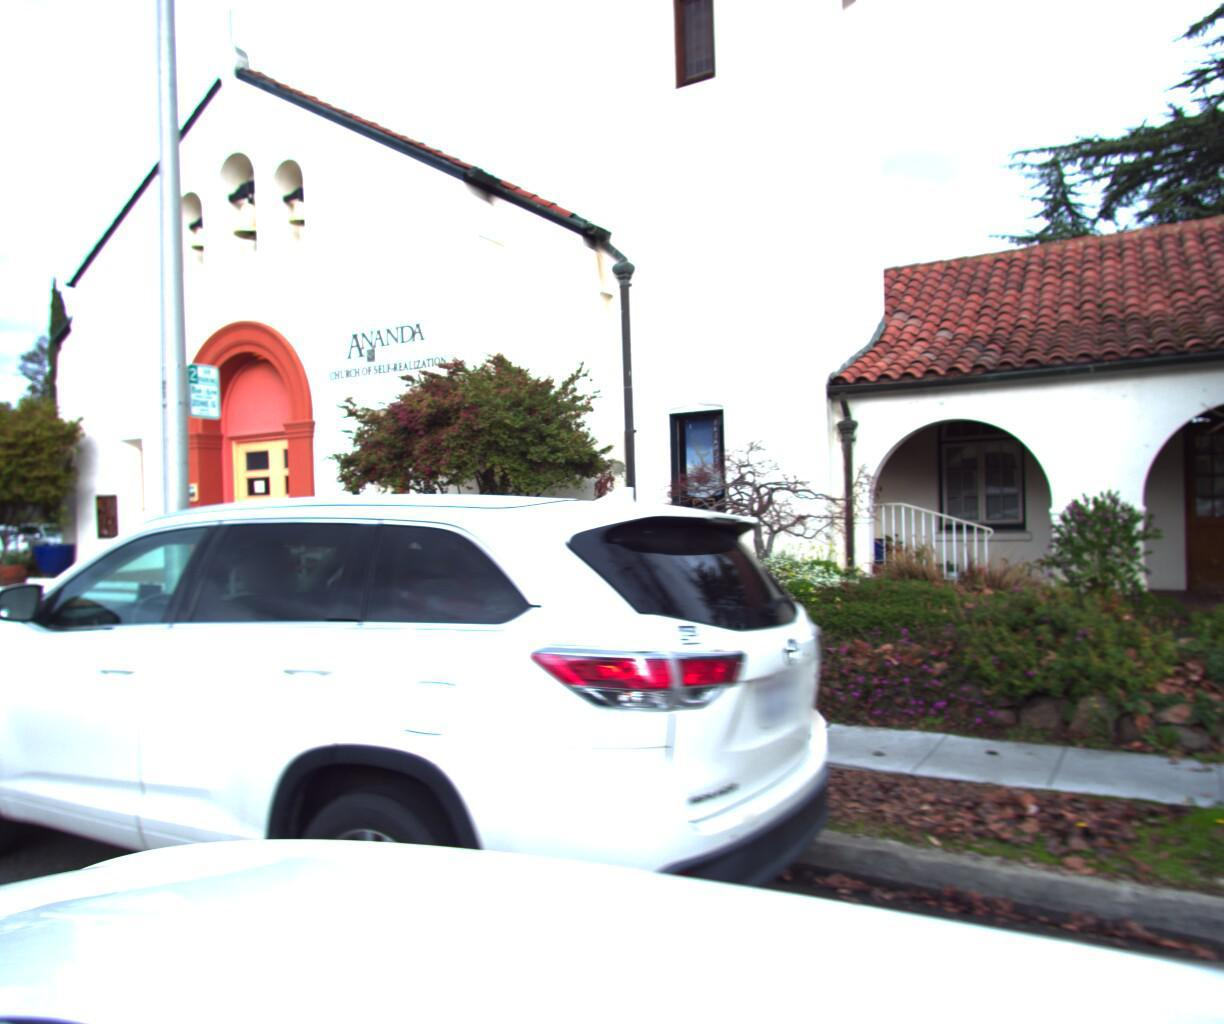car: (0, 458, 872, 1024)
